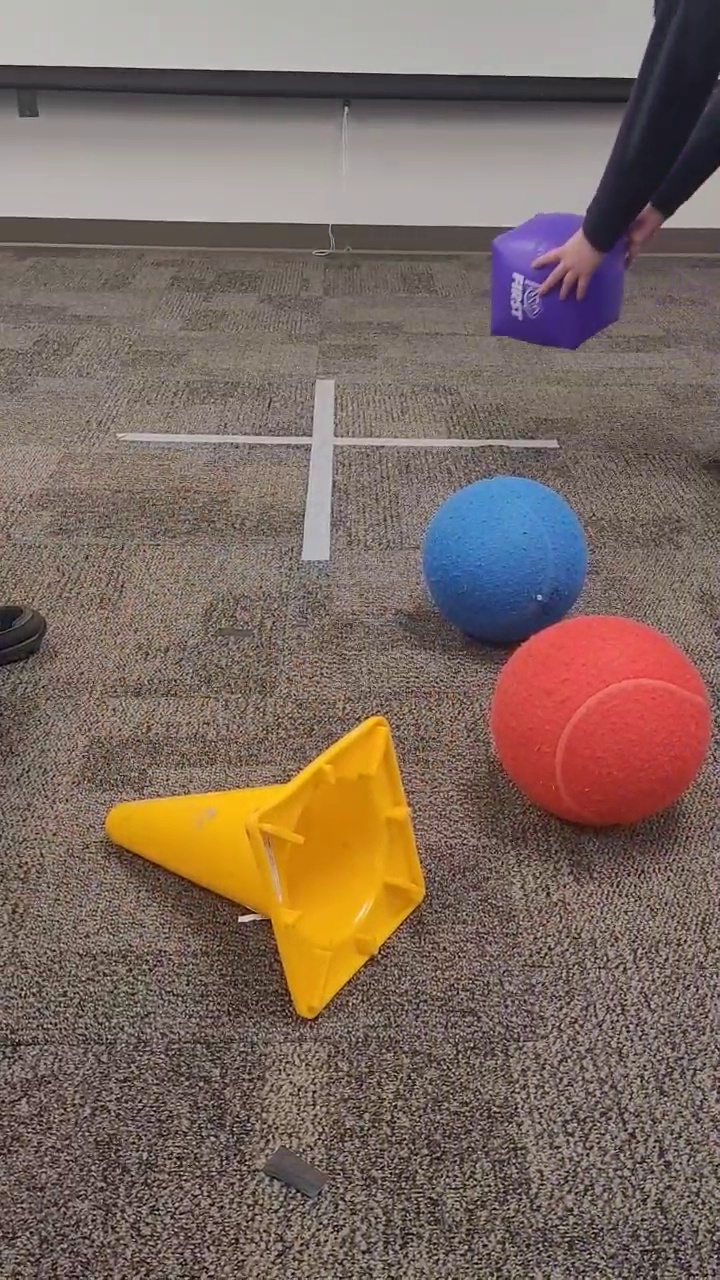ball: (488, 610, 713, 830), (420, 470, 590, 645)
cone: (101, 714, 429, 1023)
cube: (487, 208, 624, 351)
foot: (1, 598, 49, 670)
hand: (527, 227, 602, 306), (615, 195, 663, 264)
